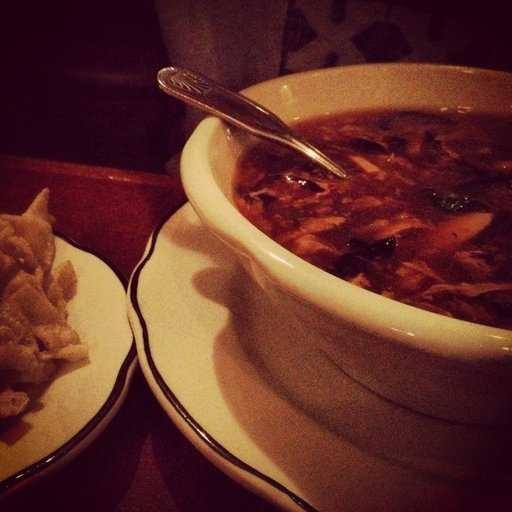soup: (188, 44, 512, 356)
